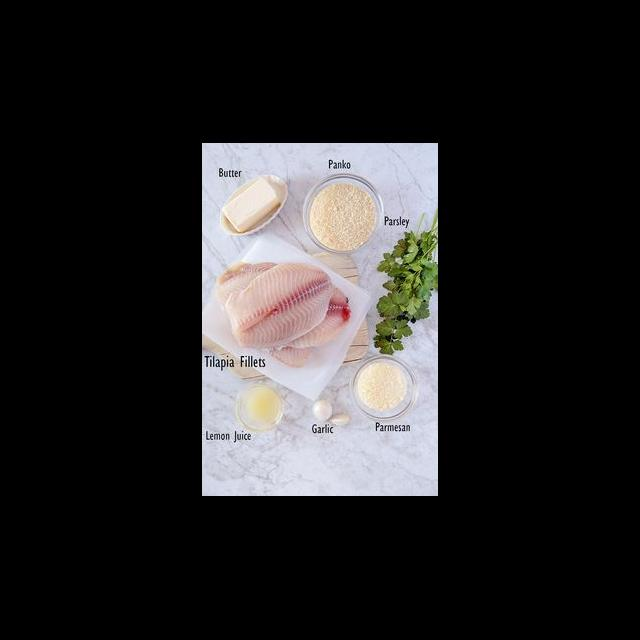fish: (225, 257, 338, 353)
